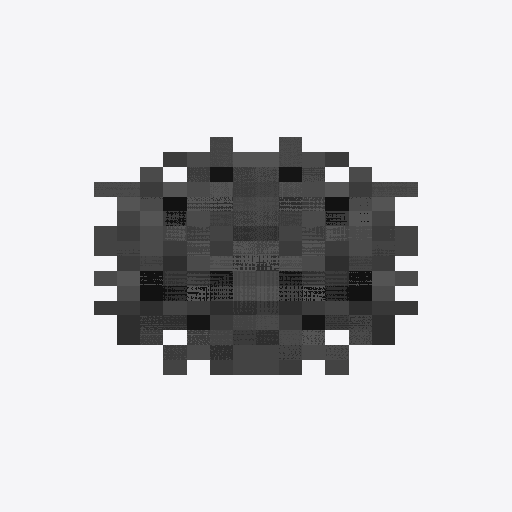
A Minecraft block model of 4 cuboids, rendered isometrically (azimuth 45°, elevation 35.3°) with the resource pack's own textures.
Parts seen in each view (by area): bush, berry.
Part boxes in pixels (x1,y1,x2,y2): bush: (94, 137, 417, 374); berry: (140, 167, 371, 329).
Bounding box in the file's own units: 14.4 × 16 × 14.4.